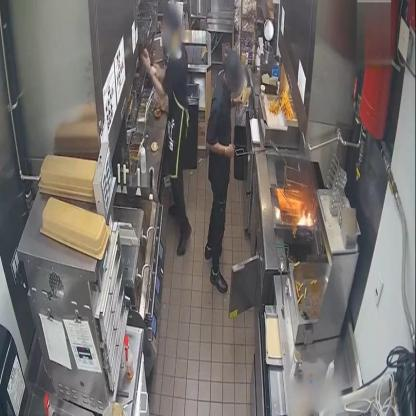fire: (292, 206, 314, 227)
